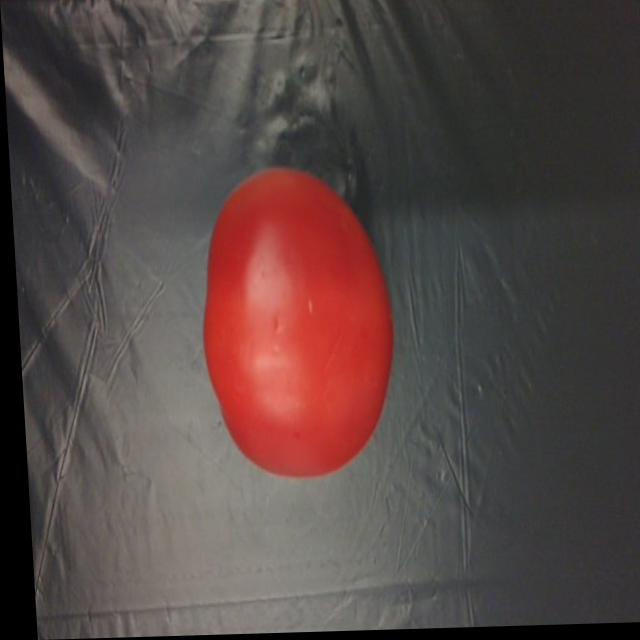kirmizi: (190, 153, 401, 491)
